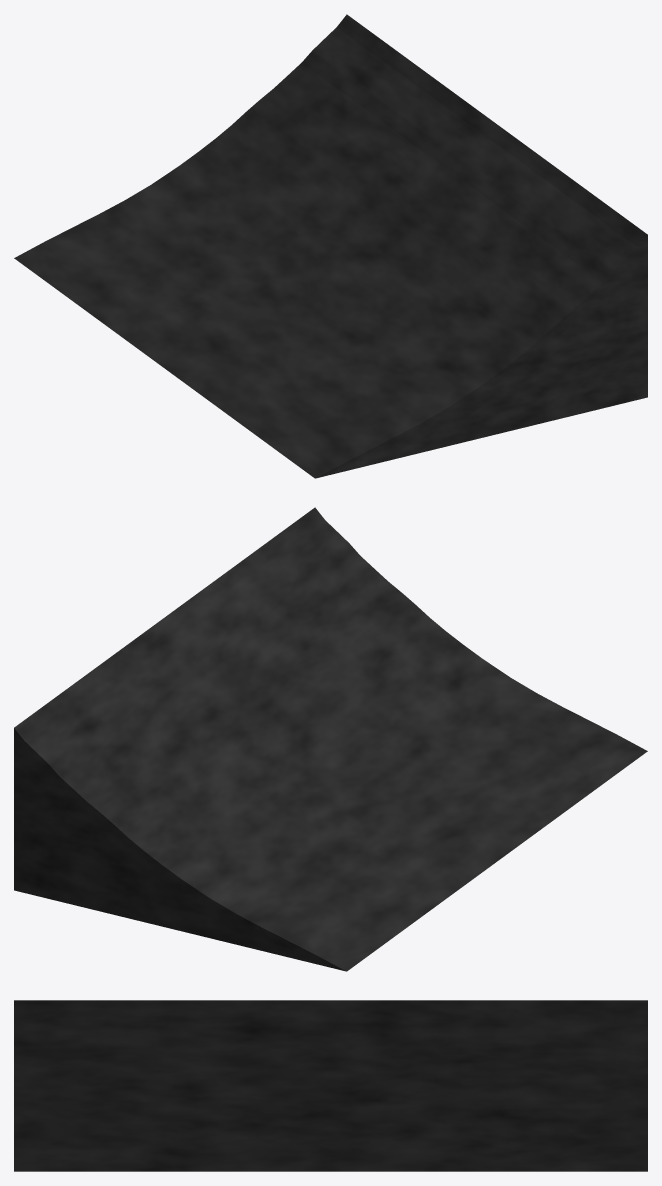
The model's file is ramp.glb.
3 views of the same model, one above another, from view 1: azimuth 30°, elevation 25°; view 2: azimuth 150°, elevation 25°; view 3: azimuth 270°, elevation 25° (orthographic). The views are drawn at different scales.
Parts seen in each view (by area): view 1: Cube; view 2: Cube; view 3: Cube.
Boxes of the visible parts, box(x1,y1,x2,y2) form: Cube: box(14, 14, 647, 478); Cube: box(14, 507, 647, 971); Cube: box(14, 1000, 647, 1171).
Bounding box in the file's own units: 2 × 0.9341 × 3.13.
Materials: 1 (1 with a texture image).
